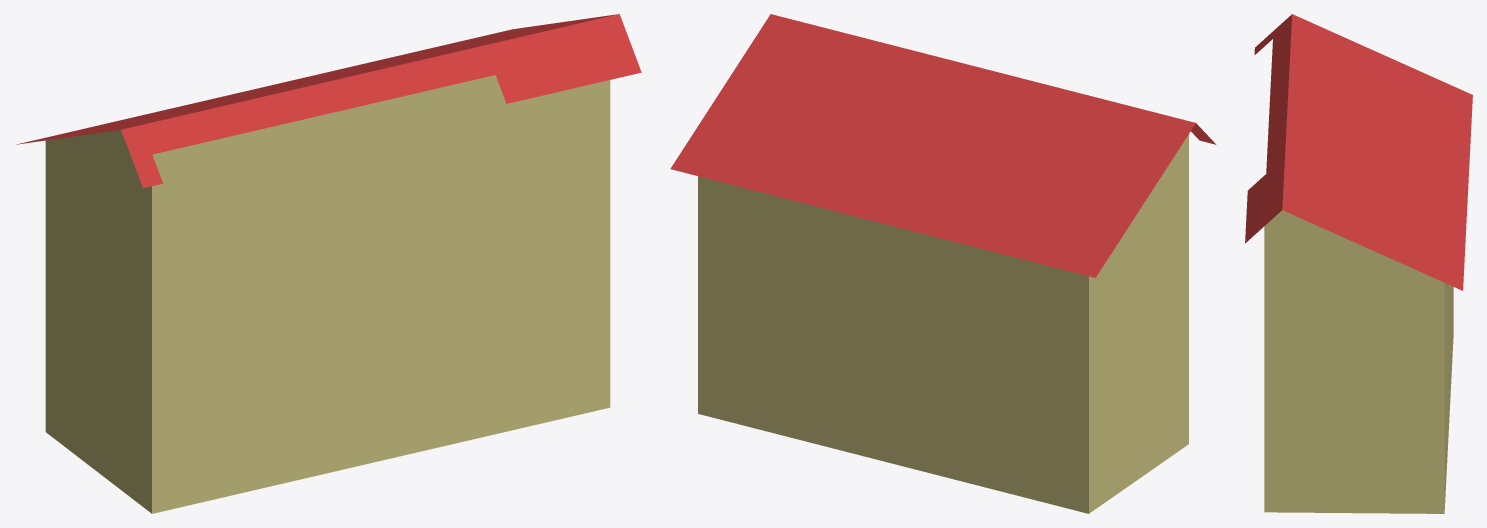
3 renders of one model, left to right at view 1: azimuth 30°, elevation 25°; view 2: azimuth 150°, elevation 25°; view 3: azimuth 270°, elevation 25°, orthographic. The views are drawn at different scales.
Size of the model in its own units: 12.44 by 6.05 by 9.09.
